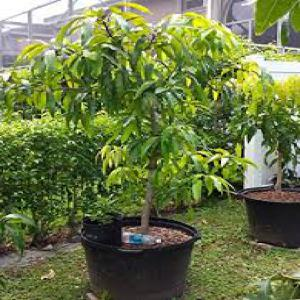Tree: (5, 1, 260, 297)
